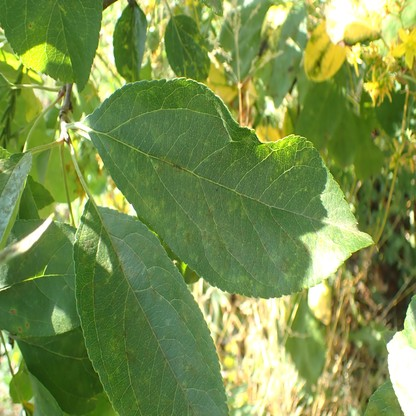scab: (149, 147, 192, 183), (79, 226, 98, 295), (167, 210, 193, 247), (123, 147, 142, 197), (198, 224, 226, 257), (195, 317, 214, 363), (281, 229, 310, 254), (124, 297, 147, 326), (174, 292, 192, 327), (144, 196, 165, 224), (383, 392, 403, 416), (180, 354, 198, 378), (125, 388, 140, 416), (275, 254, 295, 274), (109, 326, 120, 359), (104, 137, 119, 158), (107, 232, 120, 255), (120, 257, 133, 278), (226, 275, 248, 287), (149, 122, 162, 142), (134, 241, 147, 260), (225, 199, 238, 216), (180, 379, 190, 401), (180, 189, 197, 201), (124, 350, 137, 365), (269, 270, 280, 287), (366, 401, 379, 415), (152, 286, 162, 301), (144, 366, 152, 384), (205, 204, 214, 218), (215, 148, 226, 159), (219, 126, 228, 138), (191, 251, 199, 264), (95, 340, 102, 353), (121, 328, 128, 340), (239, 206, 247, 216)
